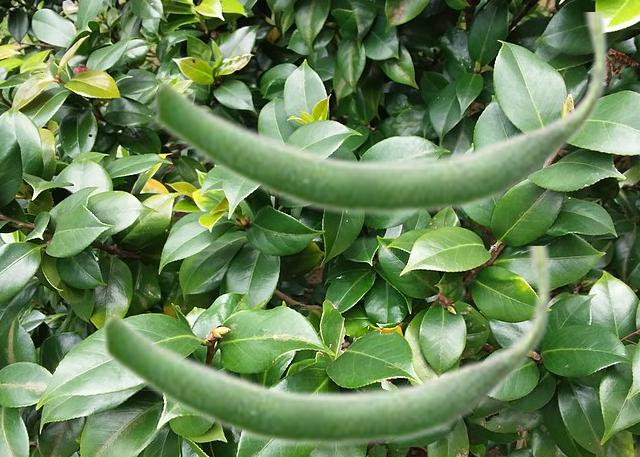french_bean: (151, 12, 609, 218), (100, 246, 552, 449)
